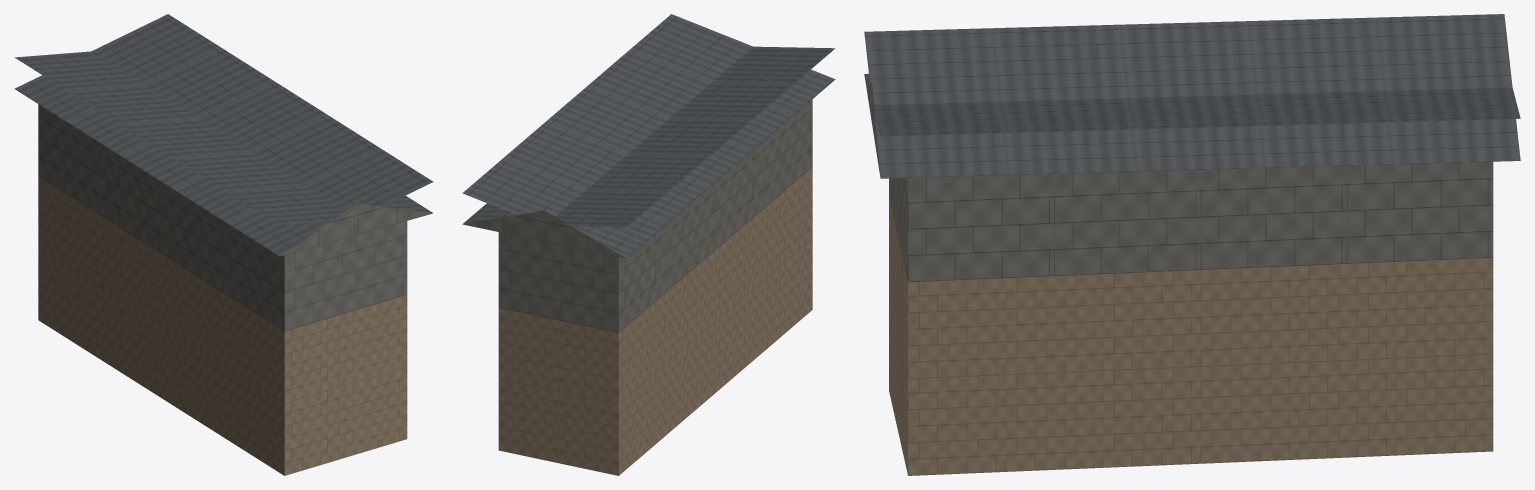
File: bld_c35_36_295.gltf
3 views of the same model, side by side, from view 1: azimuth 30°, elevation 25°; view 2: azimuth 150°, elevation 25°; view 3: azimuth 270°, elevation 25° (orthographic). The views are drawn at different scales.
Parts seen in each view (by area): view 1: bld_c35_36_295; view 2: bld_c35_36_295; view 3: bld_c35_36_295.
Part boxes in pixels (left/top/right/bottom): bld_c35_36_295: left=14, top=14, right=433, bottom=475; bld_c35_36_295: left=462, top=14, right=835, bottom=475; bld_c35_36_295: left=864, top=14, right=1520, bottom=475.
Bounding box in the file's own units: 6.23 × 8.3 × 14.11.
4 materials, 4 textured.
